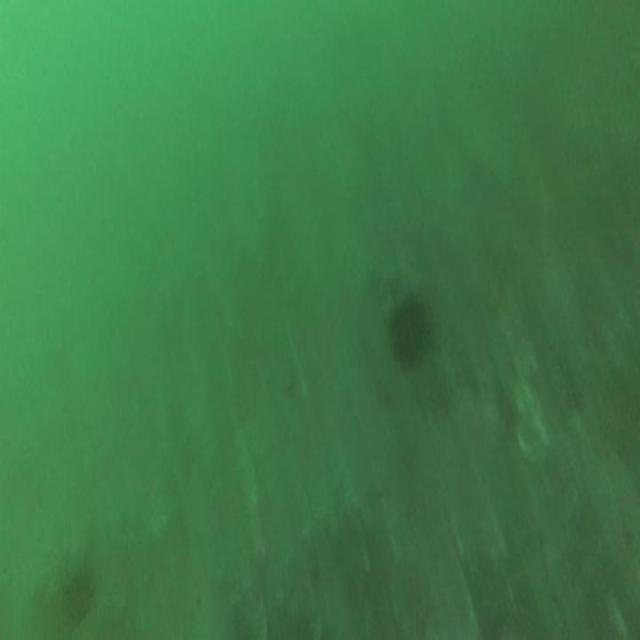echinus: (388, 296, 433, 368), (58, 577, 92, 626)
